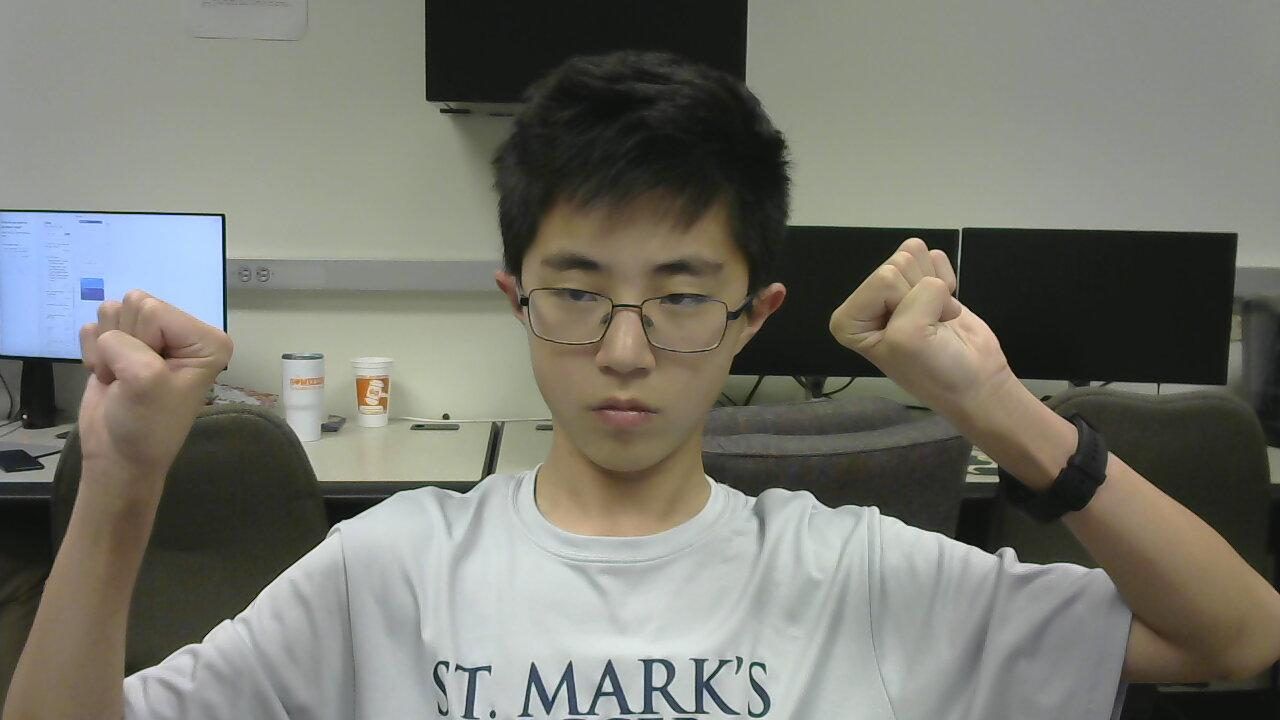fist: (816, 239, 1002, 440), (71, 282, 229, 484)
